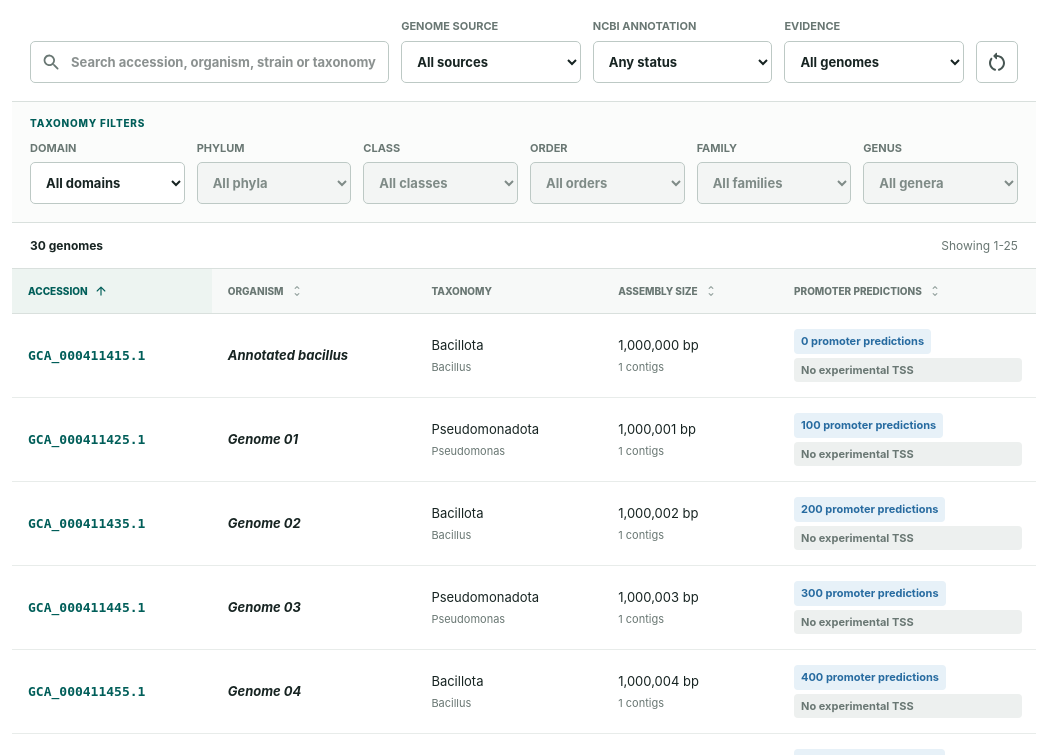
Scenario: portal genome explorer › renders the server-provided first page and requests search results after debounce
The width and height of the screenshot is (1048, 755).
In the field with placeholder "Search accession, organism, strain or taxonomy": (210, 62) [30,40,389,82], type "Annotated"
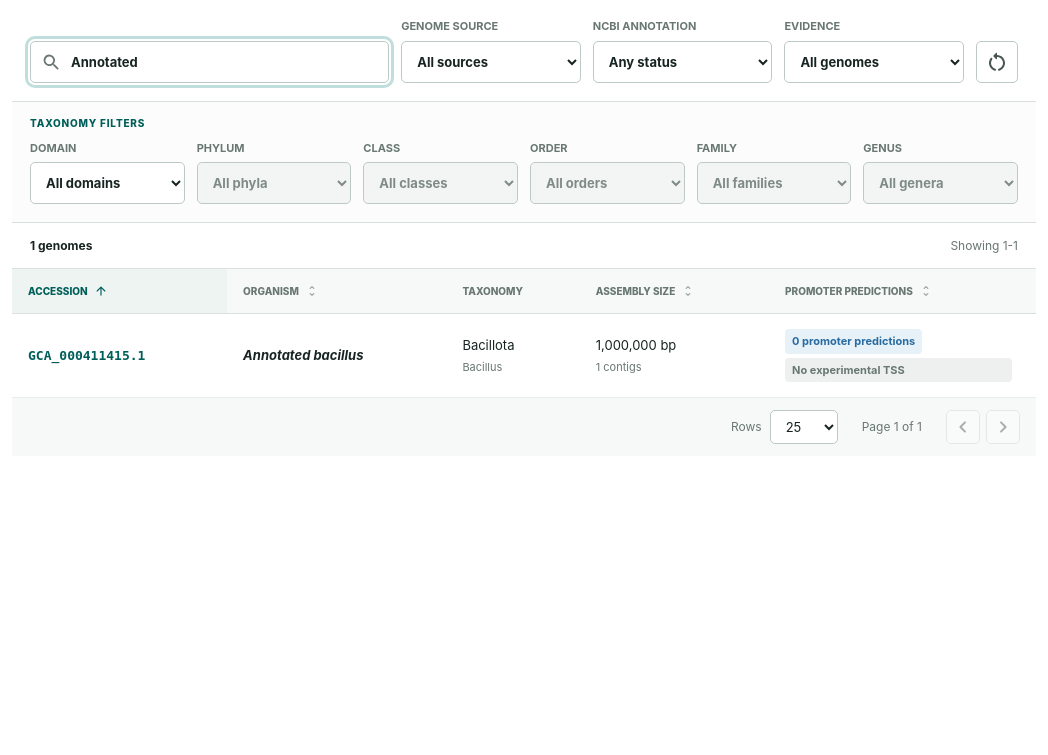
Expected: the link "GCA_000411415.1" is shown, [28,348,145,363]
Result: the message shows "1 genomes" at [12,223,1036,269]
